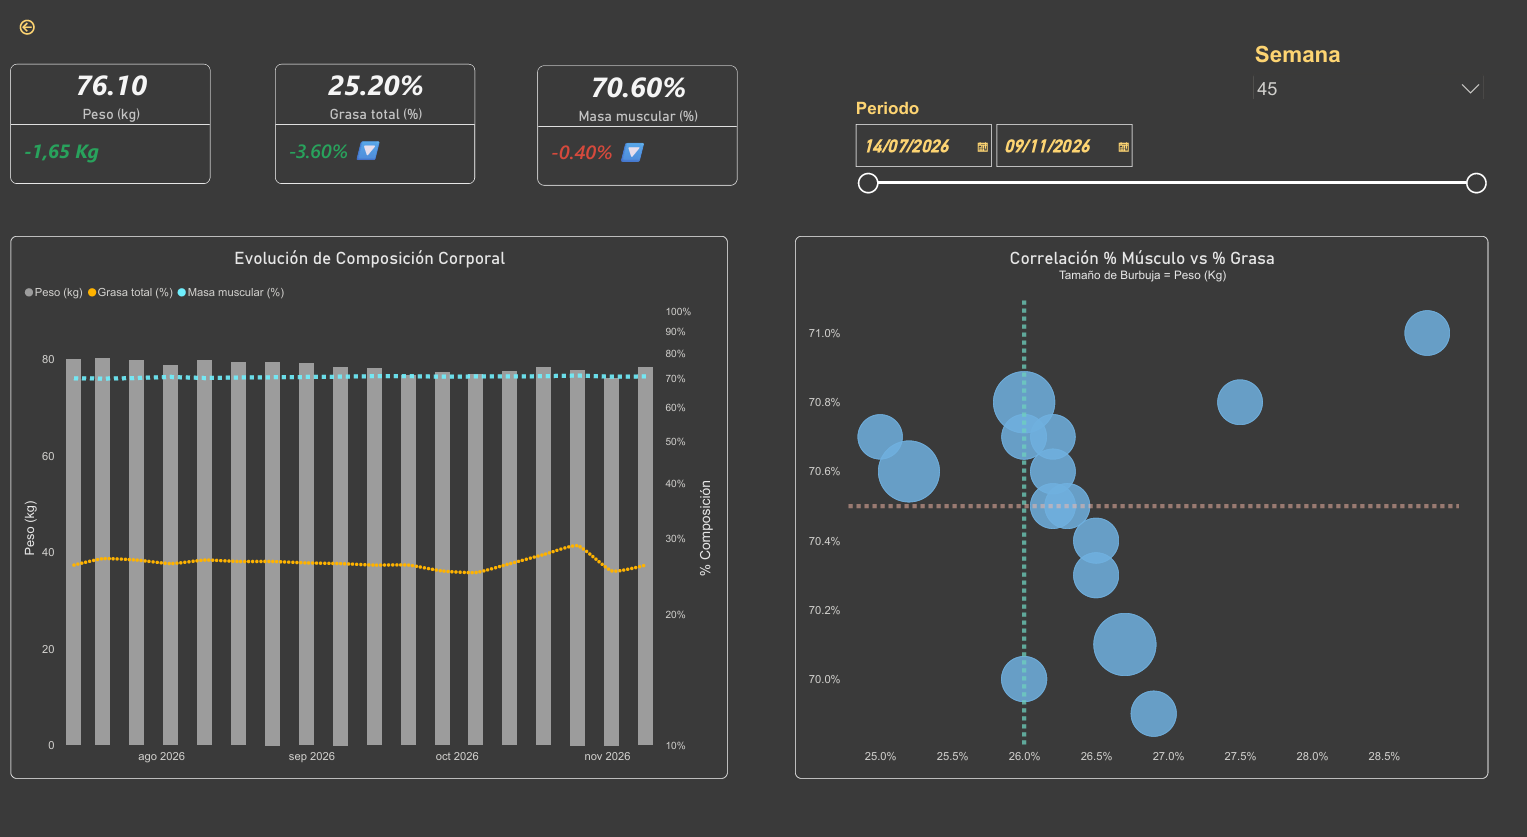

Layout of this report page (visuals, bound fields, positions):
{"tool":"powerbi","page":{"name":"Salud","canvas":[1920,1080],"ordinal":2},"visuals":[{"type":"slicer","fields":{"Values":["TB_Salud.Semana"]},"box":[1566.8,58.5,300,70],"z":0},{"type":"lineClusteredColumnComboChart","title":"Evolución de Composición Corporal","fields":{"Category":["TB_Salud.Inicio"],"Y":["Avg(TB_Salud.Peso (kg))"],"Y2":["Avg(TB_Salud.Grasa total (%))","Avg(TB_Salud.Masa muscular (%))"]},"box":[18.6,301.4,897.1,678.6],"z":1000},{"type":"cardVisual","fields":{"Data":["Avg(TB_Salud.Peso (kg))"]},"box":[18.6,86.5,250,150],"z":2000},{"type":"cardVisual","fields":{"Data":["Sum(TB_Salud.Masa muscular (%))"]},"box":[678.3,87.8,250,150],"z":3000},{"type":"cardVisual","fields":{"Data":["Avg(TB_Salud.Grasa total (%))"]},"box":[349.8,86.5,250,150],"z":4000},{"type":"scatterChart","title":"Correlación % Músculo vs % Grasa","fields":{"Size":["Sum(TB_Salud.Peso (kg))"],"X":["TB_Salud.Grasa total (%)"],"Y":["TB_Salud.Masa muscular (%)"]},"box":[1000,301.4,867.1,678.6],"z":5000},{"type":"slicer","fields":{"Values":["TB_Salud.Inicio"]},"box":[1068,129,800,160],"z":6000},{"type":"actionButton","box":[0,0,80,80],"z":7000}]}

Visuals, with their boxes in screenshot pixels (x1, y1, x2, y2), scaled from the page's 1920x1080 canvas onto the 1527x837 screenshot:
slicer - TB_Salud.Semana: 1246 45 1485 100
"Evolución de Composición Corporal" lineClusteredColumnComboChart: 15 234 728 760
cardVisual - Avg(TB_Salud.Peso (kg)): 15 67 214 183
cardVisual - Sum(TB_Salud.Masa muscular (%)): 539 68 738 184
cardVisual - Avg(TB_Salud.Grasa total (%)): 278 67 477 183
"Correlación % Músculo vs % Grasa" scatterChart: 795 234 1485 760
slicer - TB_Salud.Inicio: 849 100 1486 224
actionButton: 0 0 64 62
